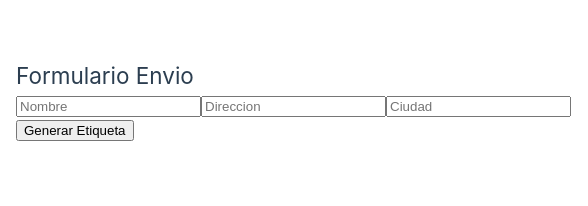
Test: updates data when form is submitted
Type "John Doe" into the field with placeholder "Nombre" at (108, 106), box [16,96,201,117]
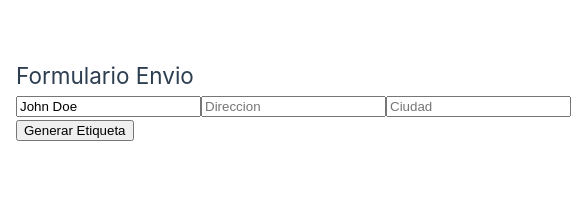
Type "123 Main St" into the field with placeholder "Direccion" at (294, 106), box [201,96,386,117]
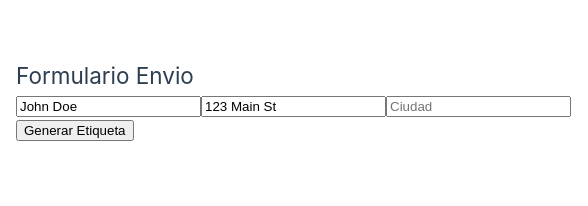
Type "Cityville" into the field with placeholder "Ciudad" at (478, 106), box [386,96,571,117]
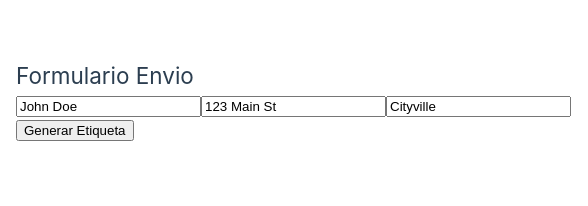
Click the button "Generar Etiqueta" at (75, 130), box [16,120,134,141]
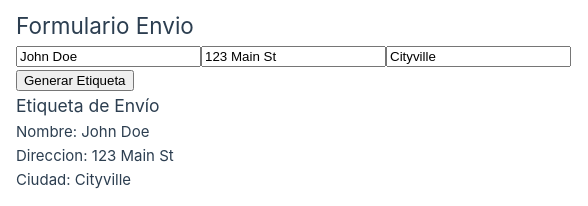
Expected: the text "John Doe" is shown, [81,122,149,141]
Expected: the text "123 Main St" is shown, [92,146,174,165]
Expected: the text "Cityville" is shown, [75,170,131,189]
